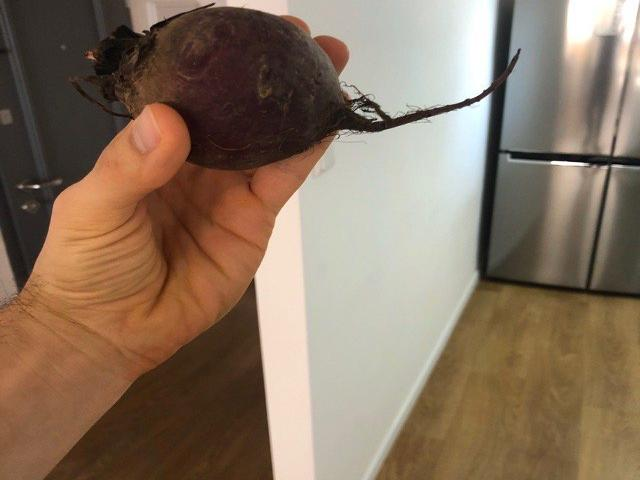beet: (71, 3, 519, 166)
